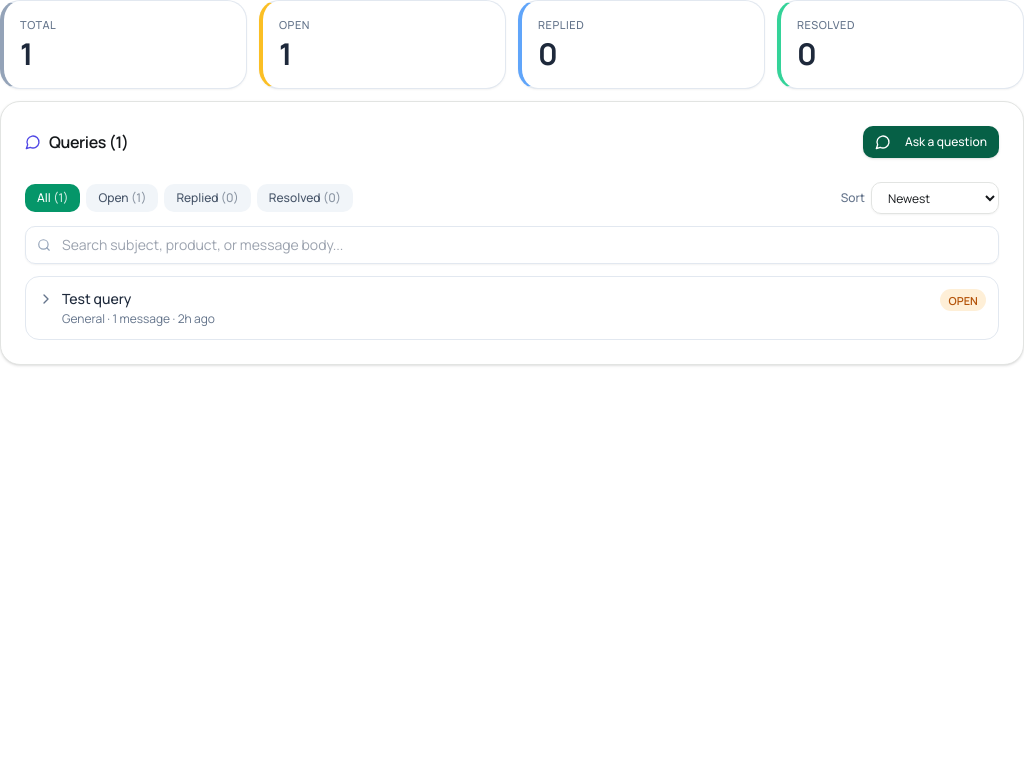
OrderQueriesTab — expand + reply › send button disabled until reply has content
Expected: the element with test id "query-card-q1" is shown, 25,276 -> 999,340
Click the button "Test query General · 1 message · 2h ago OPEN".
click(97, 299)  # box 38,289 -> 986,327
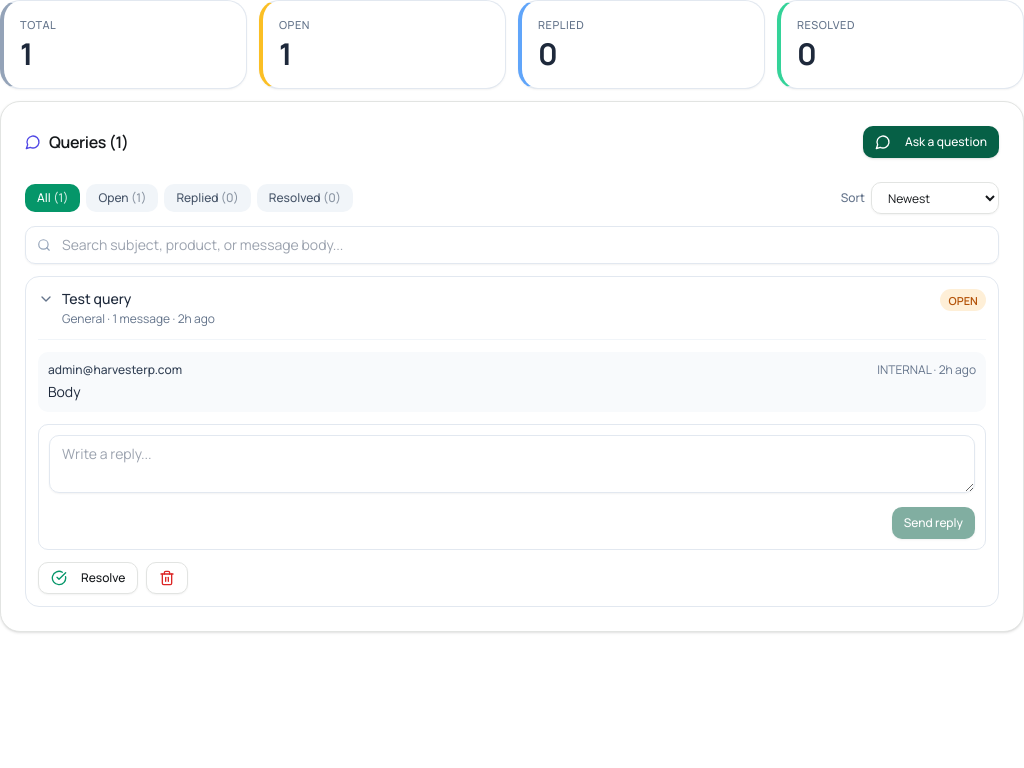
Expected: the button with test id "query-reply-send-q1" is disabled, 892,507 -> 975,539
Type "ok" into the text box with test id "query-reply-textarea-q1".
click(512, 464); type("ok")  # box 49,435 -> 975,493
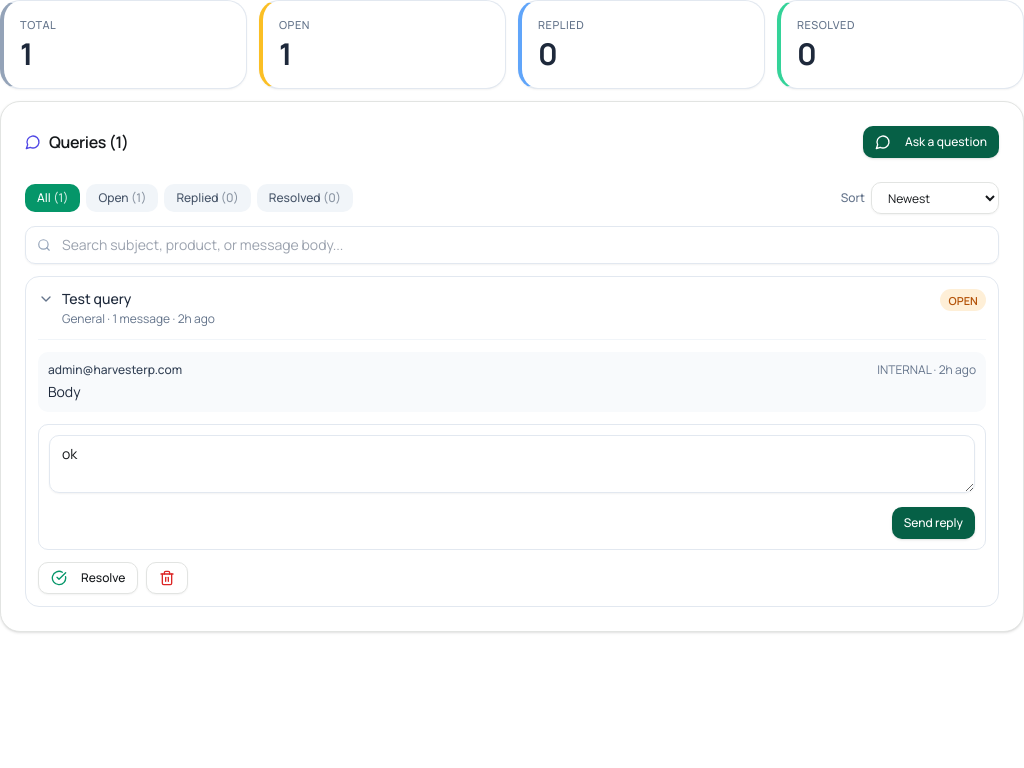
Expected: the button with test id "query-reply-send-q1" is enabled, 892,507 -> 975,539
